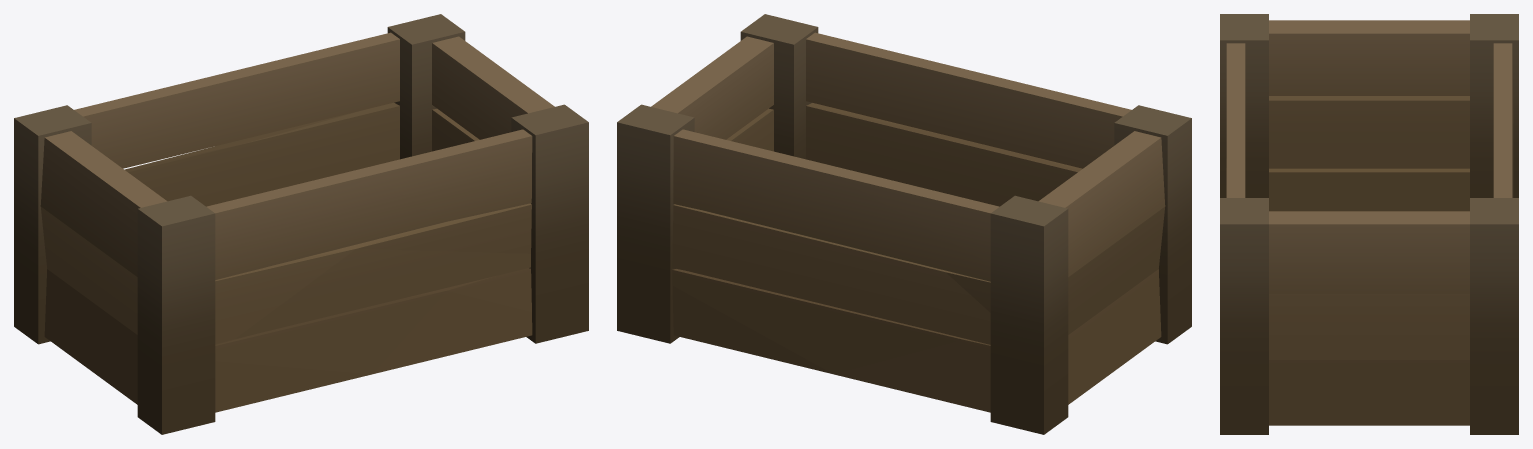
Rendered from WoodenCrate_L.fbx.
The picture shows the model from 3 angles, left to right: view 1: azimuth 30°, elevation 25°; view 2: azimuth 150°, elevation 25°; view 3: azimuth 270°, elevation 25°; orthographic projection.
Visible parts, largest first — view 1: WoodenCrate_L; view 2: WoodenCrate_L; view 3: WoodenCrate_L.
Part boxes in pixels (x1,y1,x2,y2): WoodenCrate_L: [14, 14, 588, 434]; WoodenCrate_L: [617, 14, 1191, 434]; WoodenCrate_L: [1220, 14, 1518, 434].
Size of the model in its own units: 1.5 by 0.7 by 0.9.
Materials: 1 (1 with a texture image).
